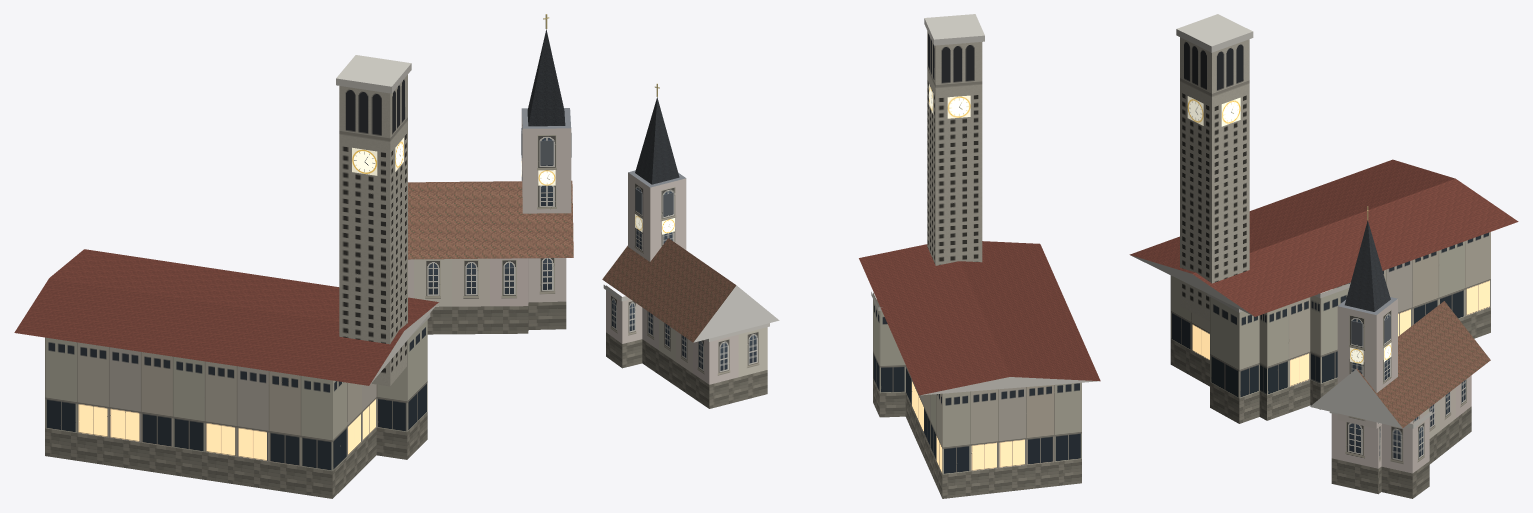
File: k93_kirche_altstetten.glb
The picture shows the model from 3 angles, left to right: view 1: azimuth 30°, elevation 25°; view 2: azimuth 150°, elevation 25°; view 3: azimuth 270°, elevation 25°; orthographic projection. The views are drawn at different scales.
Size of the model in its own units: 72.39 by 48.55 by 47.14.
9 materials, 8 textured.
